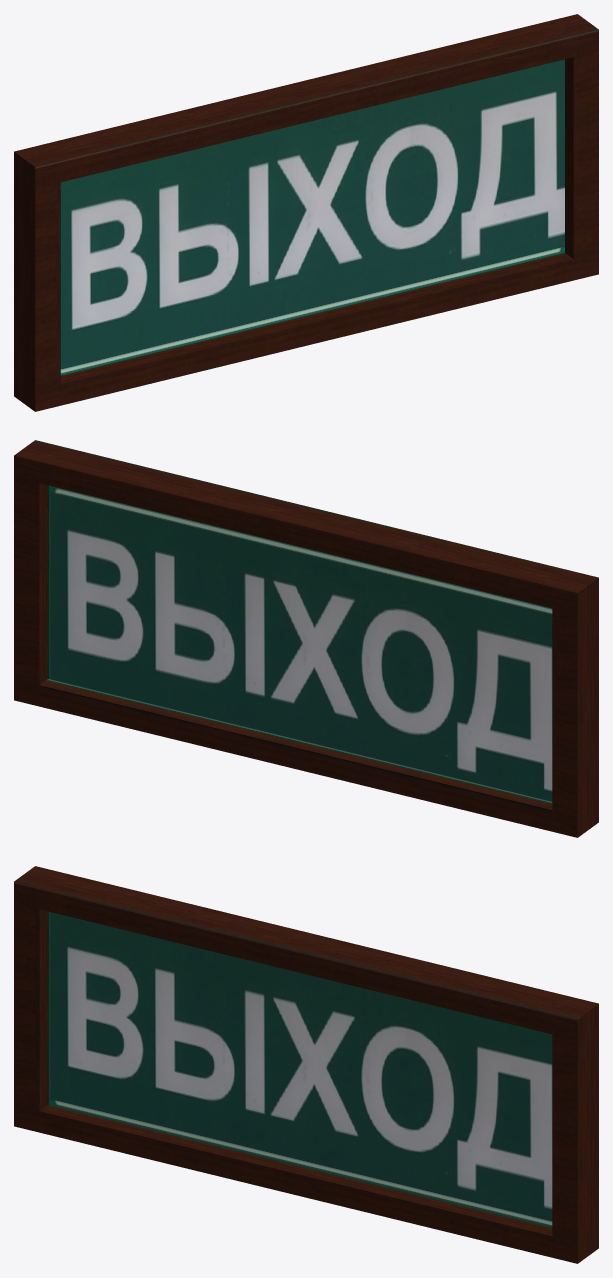
Rendered from exit.fbx.
The picture shows the model from 3 angles, top to bottom: view 1: azimuth 30°, elevation 25°; view 2: azimuth 150°, elevation 25°; view 3: azimuth 330°, elevation 25°; orthographic projection.
Parts seen in each view (by area): view 1: exit_sign_Baked_0; view 2: exit_sign_Baked_0; view 3: exit_sign_Baked_0.
Boxes of the visible parts, left/top/right/bottom form: exit_sign_Baked_0: left=14, top=14, right=598, bottom=411; exit_sign_Baked_0: left=14, top=440, right=598, bottom=837; exit_sign_Baked_0: left=14, top=866, right=598, bottom=1263.
Size of the model in its own units: 485 by 201 by 31.72.
